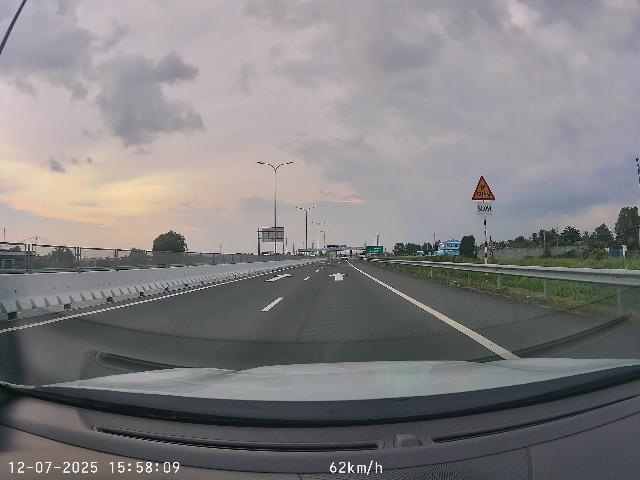245-di-cham: (471, 175, 496, 201)
